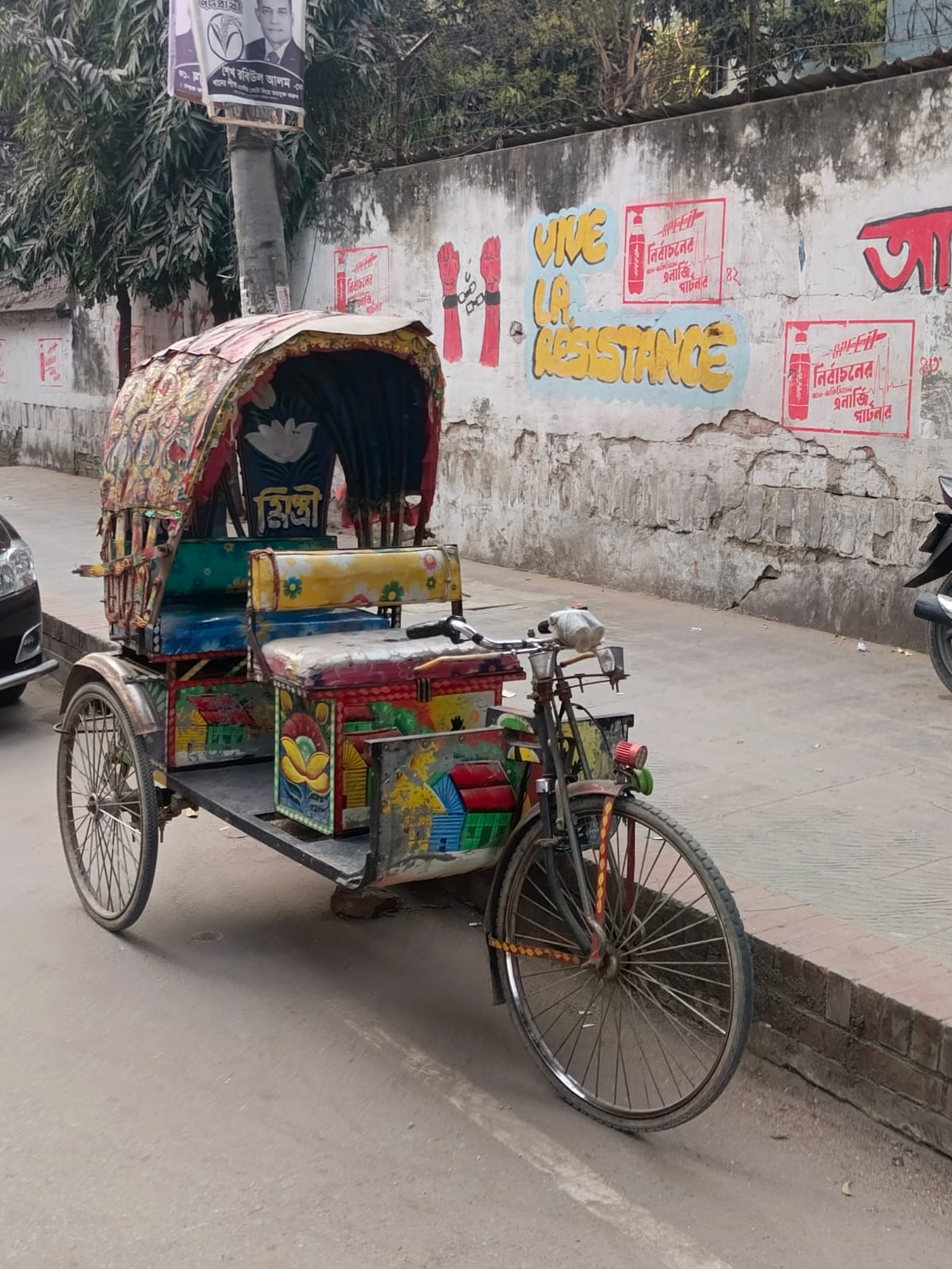Bikes: (911, 455, 952, 699)
auto-ricksaw: (53, 318, 781, 1189)
private car: (5, 461, 89, 748)
